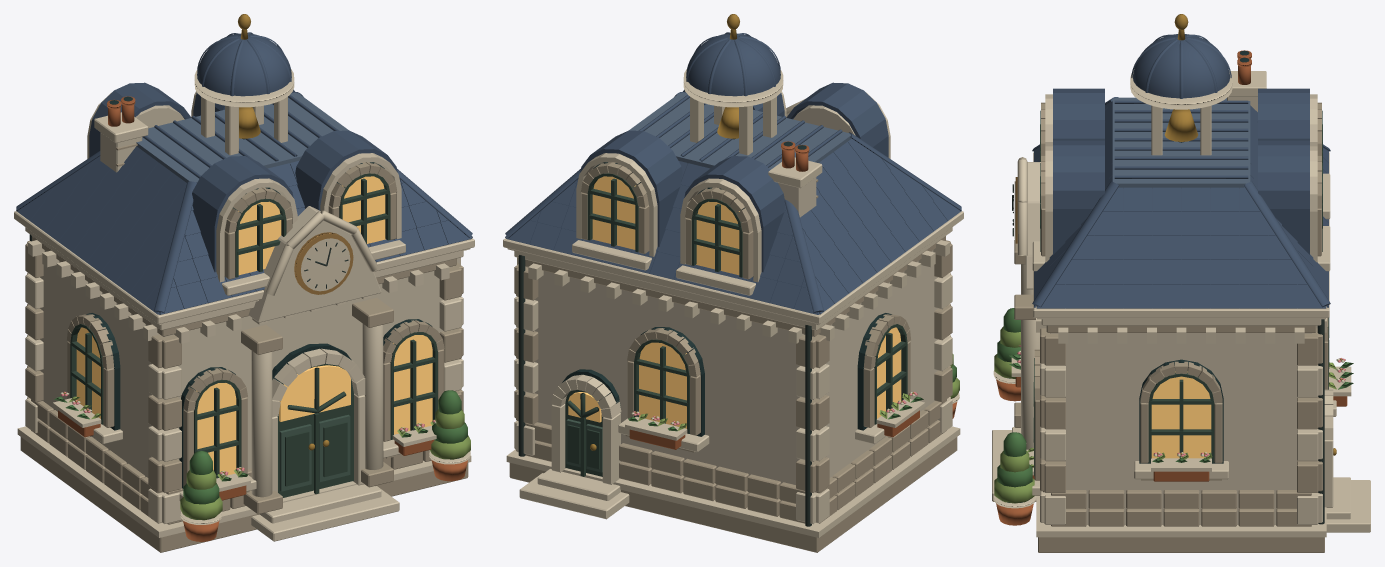
3 renders of one model, left to right at view 1: azimuth 30°, elevation 25°; view 2: azimuth 150°, elevation 25°; view 3: azimuth 270°, elevation 25°, orthographic. The views are drawn at different scales.
Visible parts, largest first — view 1: classic_civic_hall_geometry, classic_civic_hall_geometry ceramic; view 2: classic_civic_hall_geometry, classic_civic_hall_geometry ceramic; view 3: classic_civic_hall_geometry, classic_civic_hall_geometry ceramic.
Part boxes in pixels (bbox=[...]): classic_civic_hall_geometry: bbox=[14, 14, 474, 552]; classic_civic_hall_geometry ceramic: bbox=[16, 32, 472, 314]; classic_civic_hall_geometry: bbox=[503, 14, 963, 552]; classic_civic_hall_geometry ceramic: bbox=[505, 32, 961, 314]; classic_civic_hall_geometry: bbox=[992, 14, 1370, 552]; classic_civic_hall_geometry ceramic: bbox=[1032, 34, 1330, 308].
Bounding box in the file's own units: 1.04 × 1.25 × 0.9278.
